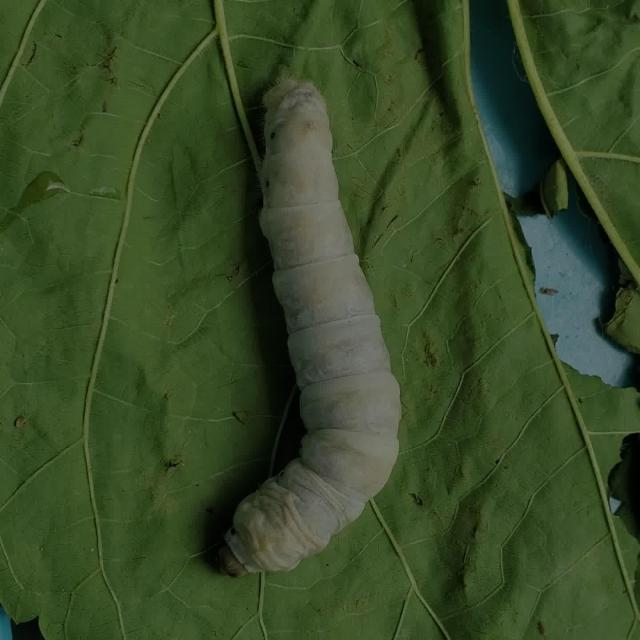Grasserie: (198, 43, 428, 597)
